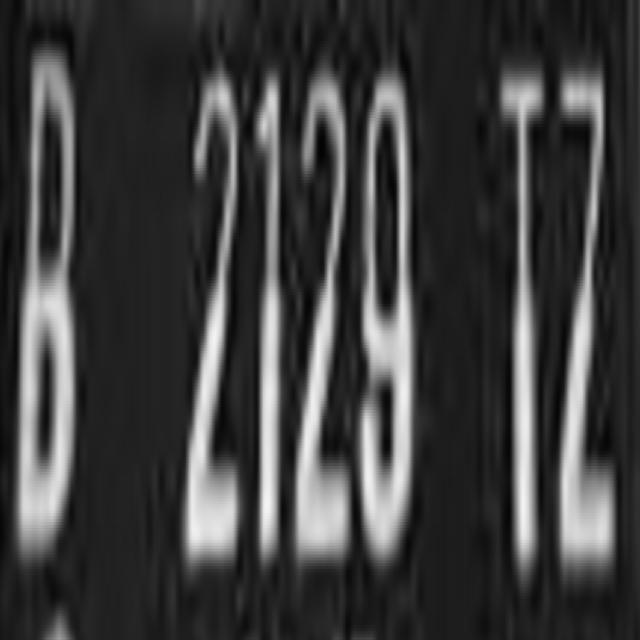1: (253, 61, 287, 574)
2: (298, 63, 354, 561), (183, 45, 237, 552)
9: (366, 63, 416, 557)
B: (8, 43, 100, 565)
T: (490, 70, 552, 590)
Z: (560, 70, 614, 554)
